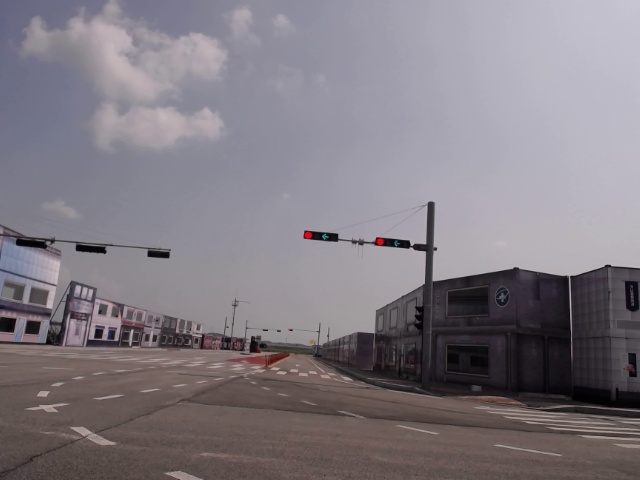left_green_4: (377, 237, 410, 250), (304, 232, 338, 241)
